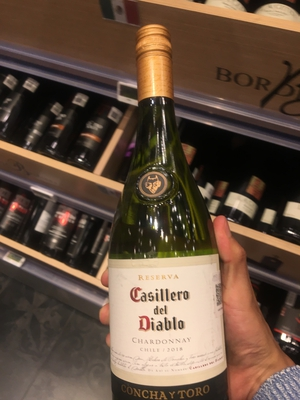casillero del diablo chardonnay: (90, 30, 229, 400)
